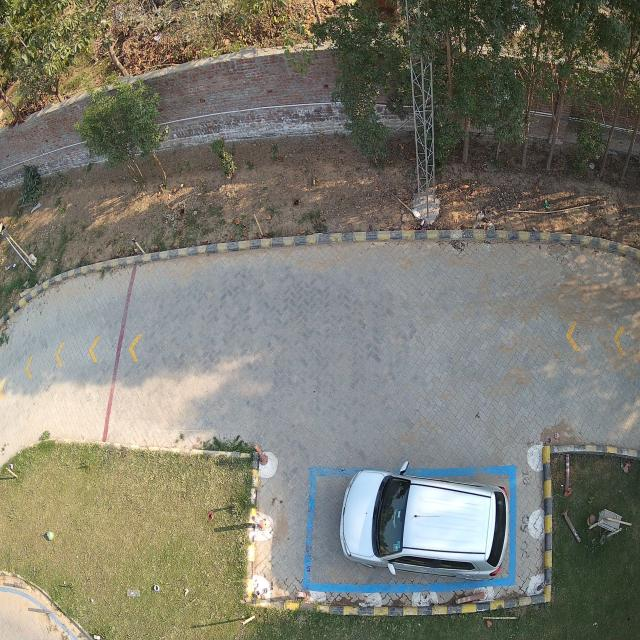car: (340, 462, 509, 578)
